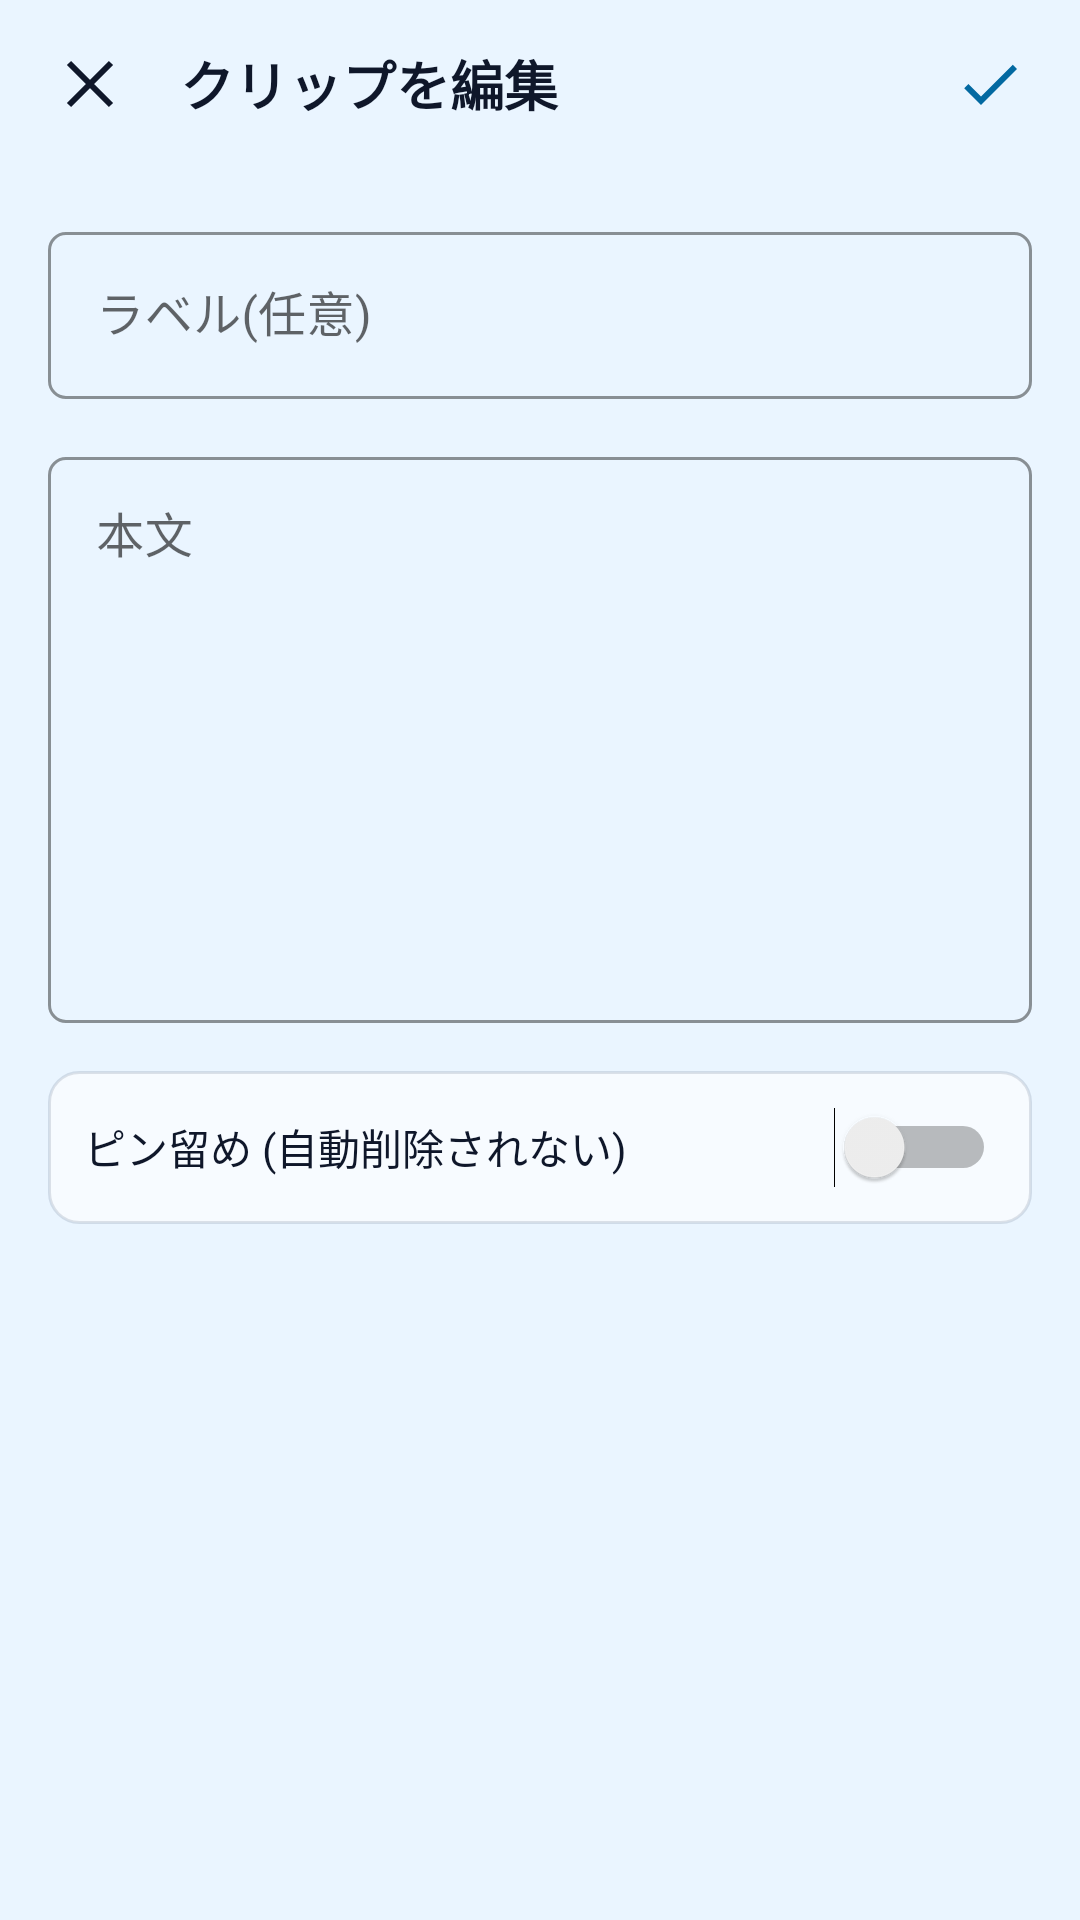

Named icons in this screenshot (1080w x 1920h) and their centers, [x,y]:
保存: [990,85]
戻る: [90,84]
